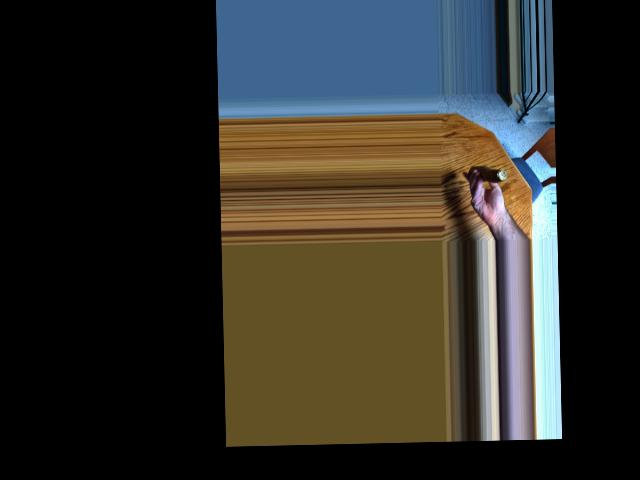sweet_potato: (467, 164, 502, 178)
